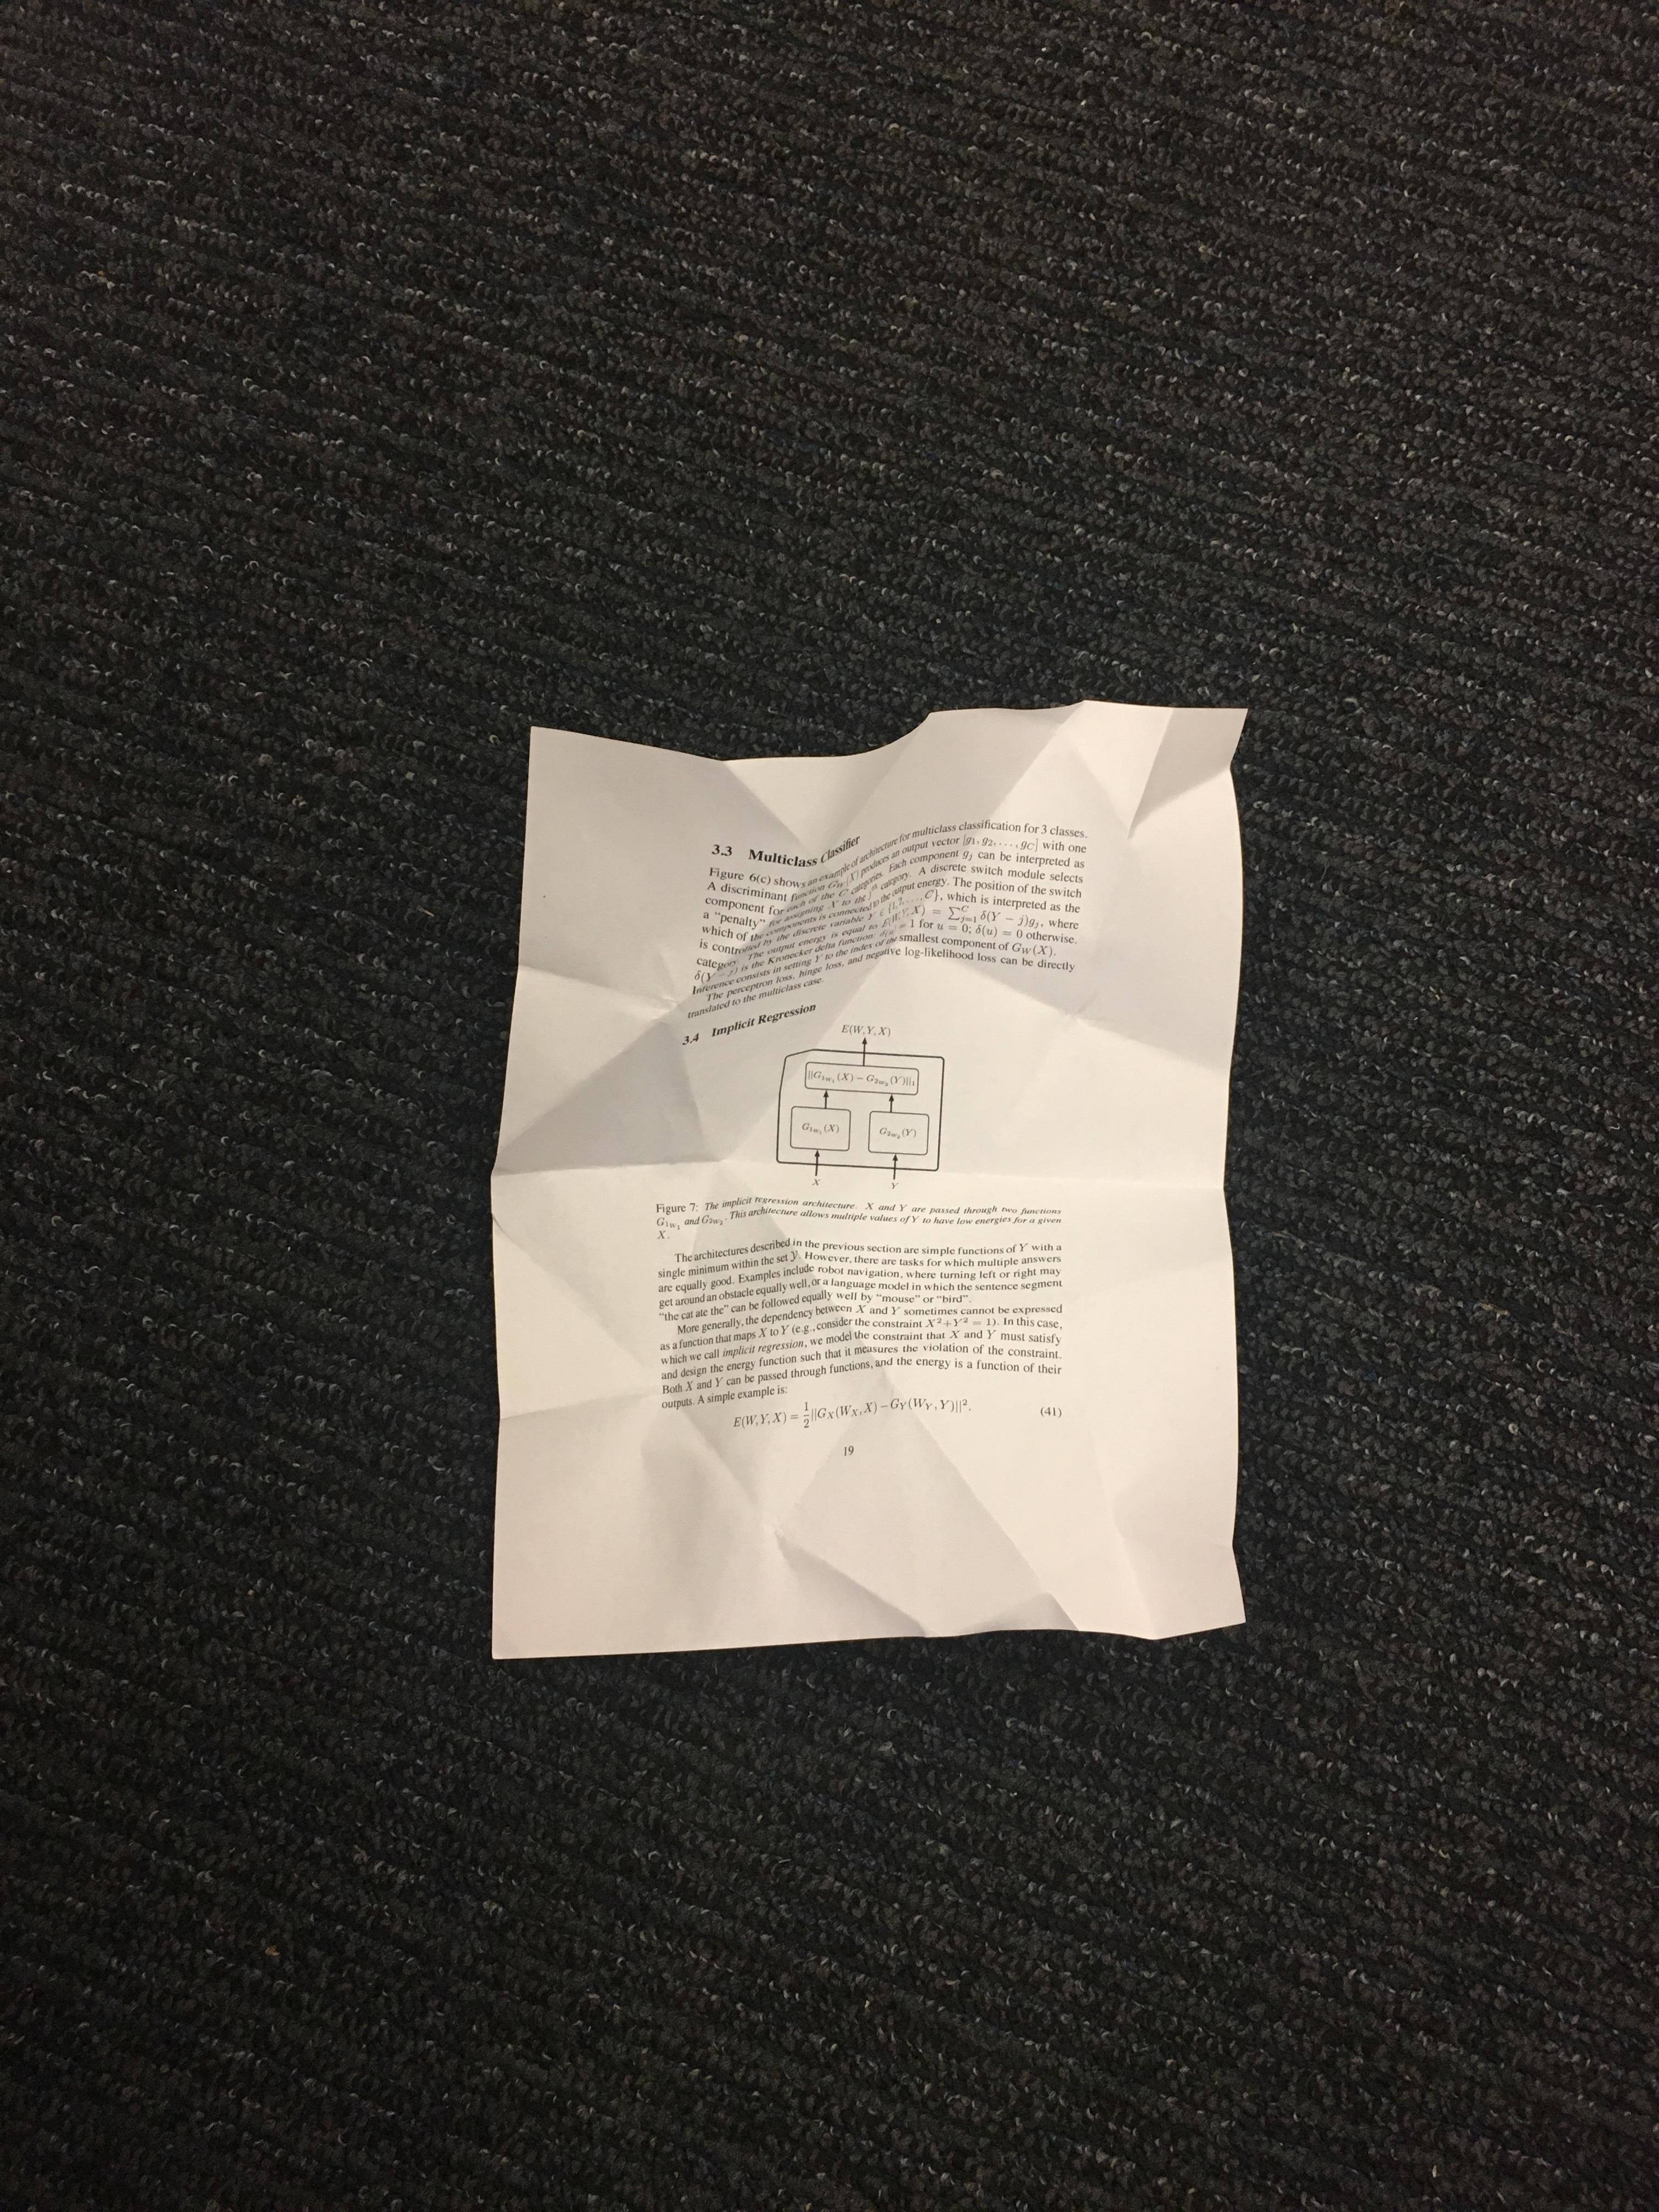paper: (383, 597, 1326, 1998)
